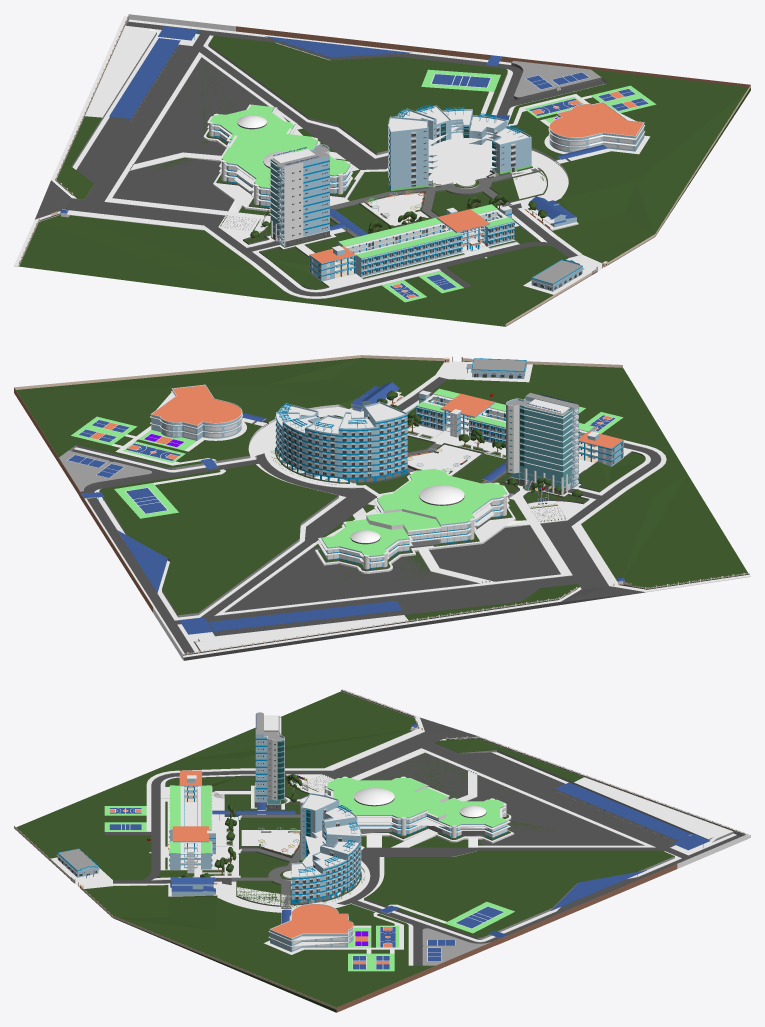
File: map.obj
3 views of the same model, one above another, from view 1: azimuth 30°, elevation 25°; view 2: azimuth 150°, elevation 25°; view 3: azimuth 270°, elevation 25° (orthographic). The views are drawn at different scales.
Parts seen in each view (by area): view 1: Mesh1027 Group336 Model, Mesh1 Group1 Model, Mesh908 Group335 Group334 Model, Mesh394 Group2 Model, Mesh771 Group203 Group202 Model, Mesh849 Group305 Group202 Model, Mesh1046 Group339 Model, Mesh854 B_floor3 Group202 Model, Mesh822 Group254 Group202 Model, Mesh852 B_floor1 Group202 Model, Mesh853 B_floor2 Group202 Model, Mesh851 B_floor_1_1 Group202 Model (+10 smaller); view 2: Mesh1027 Group336 Model, Mesh1 Group1 Model, Mesh908 Group335 Group334 Model, Mesh394 Group2 Model, Mesh771 Group203 Group202 Model, Mesh1046 Group339 Model, Mesh822 Group254 Group202 Model, Mesh797 Group253 Group202 Model, Mesh848 Group280 Group202 Model, Mesh854 B_floor3 Group202 Model, Mesh853 B_floor2 Group202 Model, Mesh852 B_floor1 Group202 Model (+9 smaller); view 3: Mesh1027 Group336 Model, Mesh1 Group1 Model, Mesh908 Group335 Group334 Model, Mesh771 Group203 Group202 Model, Mesh1046 Group339 Model, Mesh394 Group2 Model, Mesh953 Group338 Group336 Model, Mesh822 Group254 Group202 Model, Mesh848 Group280 Group202 Model, Mesh797 Group253 Group202 Model, Mesh904 Group330 Model, Mesh441 Group146 Group137 Model (+3 smaller).
Part boxes in pixels (box(x1,y1,x2,y2)): Mesh1027 Group336 Model: box(14, 14, 750, 326); Mesh1 Group1 Model: box(207, 104, 352, 206); Mesh908 Group335 Group334 Model: box(549, 102, 644, 140); Mesh394 Group2 Model: box(270, 144, 329, 247); Mesh771 Group203 Group202 Model: box(388, 121, 531, 162); Mesh849 Group305 Group202 Model: box(388, 162, 531, 190); Mesh1046 Group339 Model: box(265, 36, 411, 57); Mesh854 B_floor3 Group202 Model: box(388, 131, 531, 168); Mesh822 Group254 Group202 Model: box(388, 111, 506, 156); Mesh852 B_floor1 Group202 Model: box(388, 139, 531, 174); Mesh853 B_floor2 Group202 Model: box(388, 150, 531, 180); Mesh851 B_floor_1_1 Group202 Model: box(388, 156, 531, 185); Mesh1027 Group336 Model: box(14, 355, 750, 660); Mesh1 Group1 Model: box(318, 468, 509, 569); Mesh908 Group335 Group334 Model: box(150, 384, 242, 427); Mesh394 Group2 Model: box(506, 393, 578, 495); Mesh771 Group203 Group202 Model: box(275, 403, 407, 453); Mesh1046 Group339 Model: box(117, 530, 167, 592); Mesh822 Group254 Group202 Model: box(276, 412, 407, 447); Mesh797 Group253 Group202 Model: box(282, 414, 407, 441); Mesh848 Group280 Group202 Model: box(305, 413, 407, 435); Mesh854 B_floor3 Group202 Model: box(275, 413, 407, 459); Mesh853 B_floor2 Group202 Model: box(275, 434, 407, 471); Mesh852 B_floor1 Group202 Model: box(275, 428, 407, 465); Mesh1027 Group336 Model: box(14, 689, 750, 1012); Mesh1 Group1 Model: box(324, 776, 510, 838); Mesh908 Group335 Group334 Model: box(269, 903, 353, 940); Mesh771 Group203 Group202 Model: box(291, 830, 361, 878); Mesh1046 Group339 Model: box(551, 870, 646, 910); Mesh394 Group2 Model: box(255, 712, 284, 809); Mesh953 Group338 Group336 Model: box(170, 877, 215, 895); Mesh822 Group254 Group202 Model: box(301, 824, 361, 869); Mesh848 Group280 Group202 Model: box(301, 812, 360, 837); Mesh797 Group253 Group202 Model: box(301, 816, 361, 855); Mesh904 Group330 Model: box(56, 849, 99, 878); Mesh441 Group146 Group137 Model: box(172, 826, 208, 847).
Bounding box in the file's own units: 16.34 × 1.82 × 15.76.
